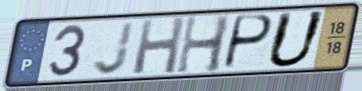3: (47, 22, 88, 80)
H: (173, 14, 234, 77), (130, 15, 187, 76)
J: (90, 20, 137, 77)
P: (220, 13, 275, 72)
U: (263, 10, 329, 71)
